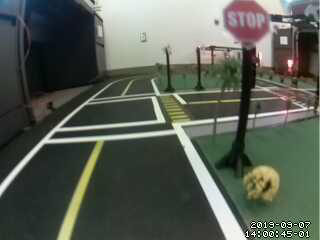Stop_Sign: (221, 1, 275, 46)
